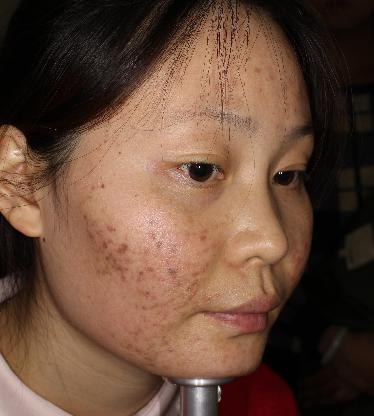Dark-Spots: (40, 236, 49, 246), (116, 148, 124, 157)
Nodules: (83, 224, 100, 250), (112, 261, 132, 282), (146, 222, 164, 244), (114, 240, 133, 258), (163, 265, 182, 279), (99, 236, 116, 250), (133, 268, 148, 283), (78, 210, 93, 223), (104, 222, 119, 235), (154, 241, 169, 254), (196, 230, 209, 244), (141, 287, 153, 300)
acne scar: (248, 57, 266, 78), (157, 333, 173, 350), (147, 298, 162, 314), (132, 325, 145, 342), (187, 280, 203, 293), (134, 300, 148, 313), (202, 259, 213, 275), (145, 263, 158, 276), (189, 266, 201, 279), (164, 294, 176, 307), (132, 344, 145, 354)
